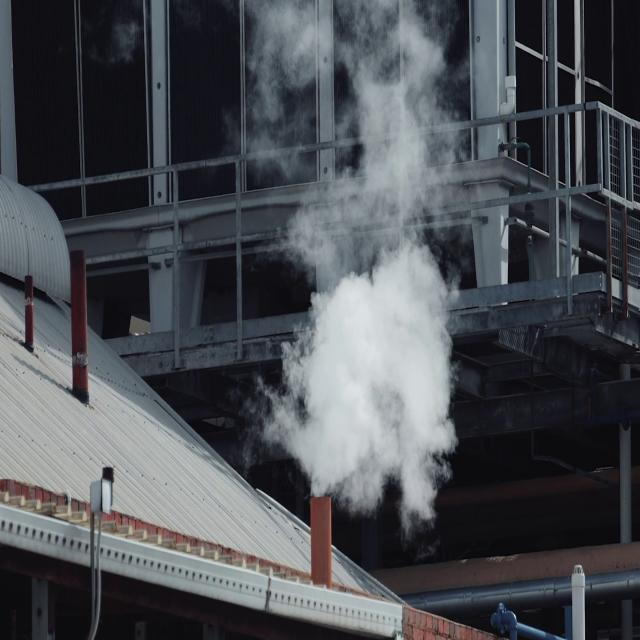Smoke: (252, 0, 466, 513)
